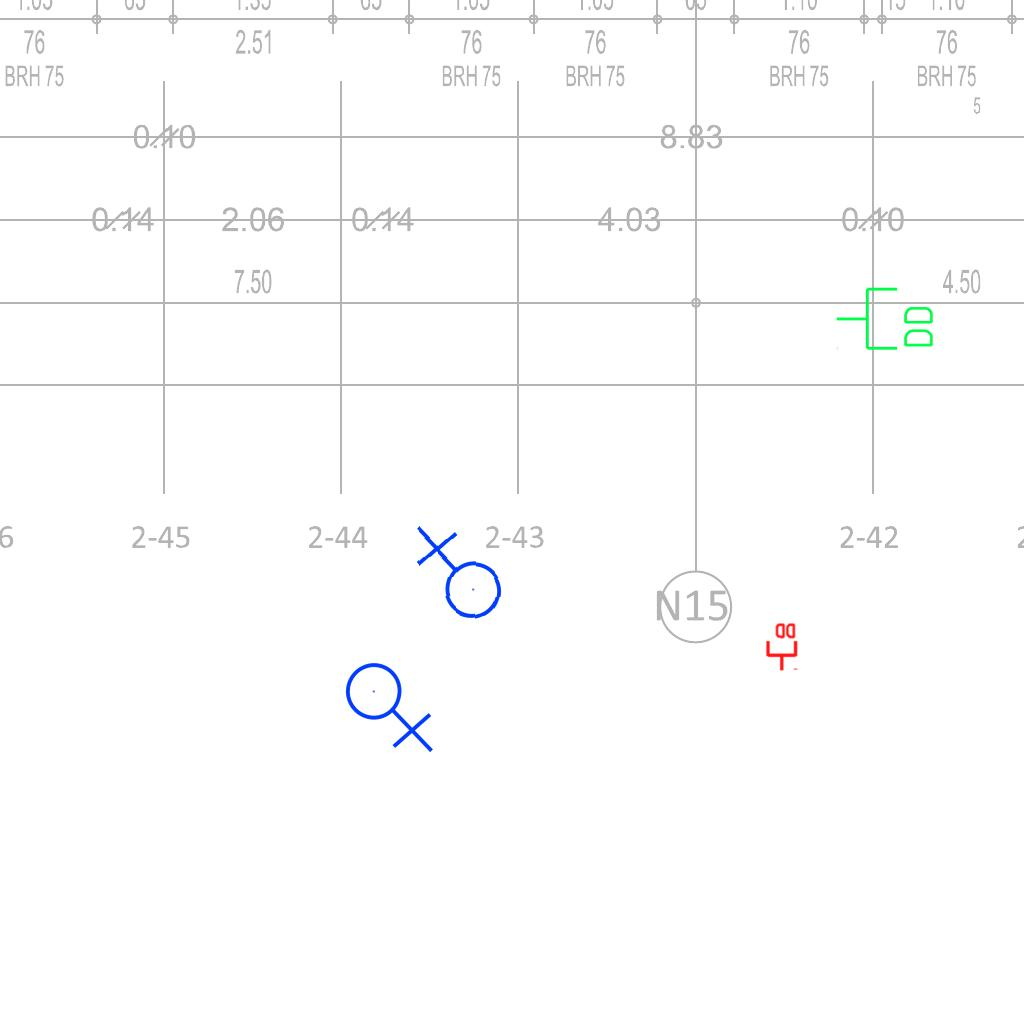Datenanschluss_zweifach: (834, 285, 937, 354), (764, 621, 798, 672)
Elektroanschluss_allgemein_230V_Geraeteanschlussdose_230V: (406, 525, 507, 629), (344, 654, 438, 753)
